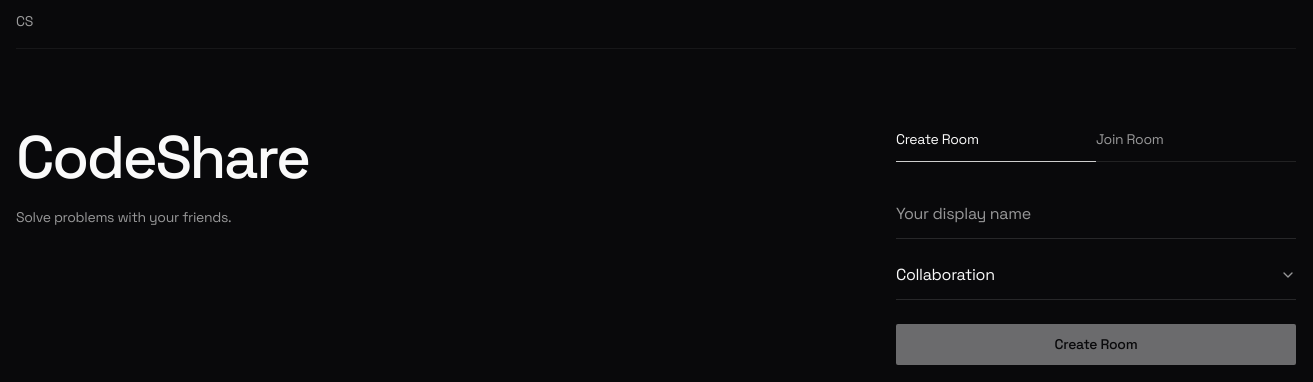
Scenario: Join tab - room code input › auto-formats room code with hyphen
Click the tab with test id "tab-join" at point(1196, 146), box [1096,129,1296,162]
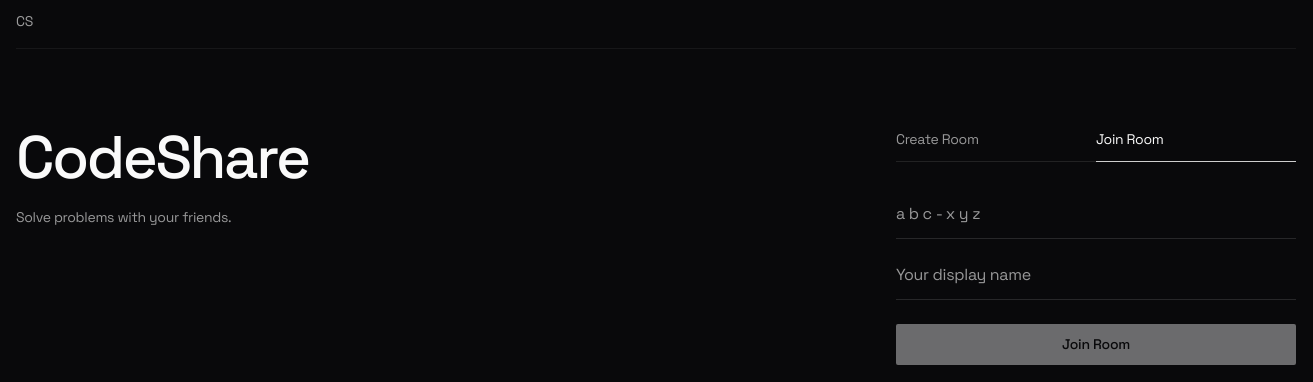
Type "abcx" into the field with test id "room-code-input" at point(1096, 220), box [896,202,1296,239]
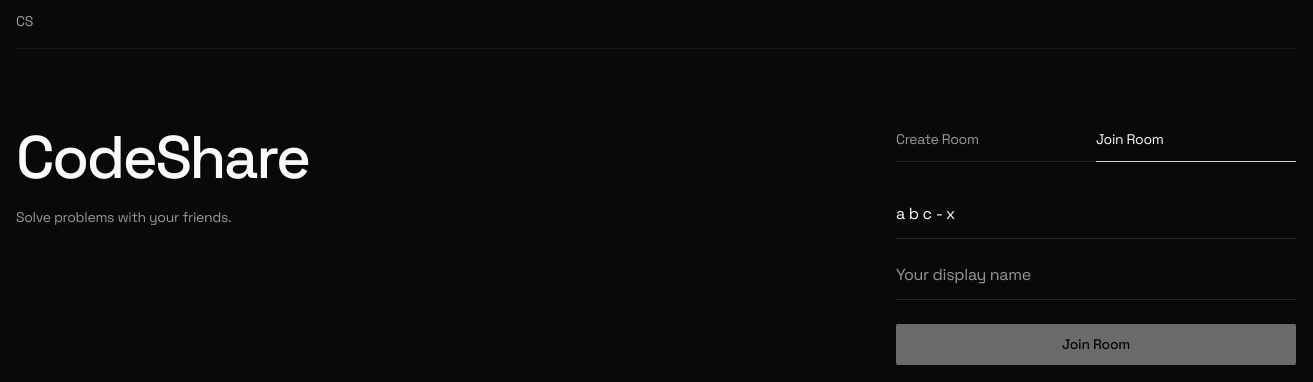
Now the field with test id "room-code-input" holds "abc-x", box [896,202,1296,239]
